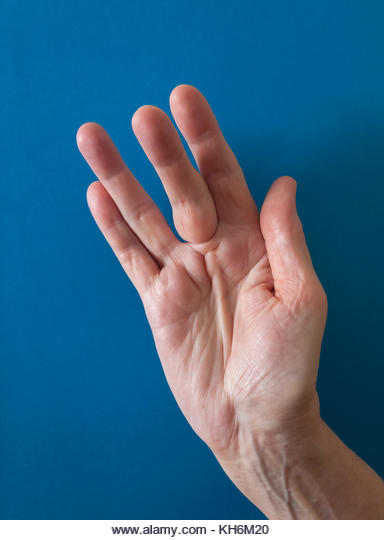non-diseased: (68, 86, 341, 442)
